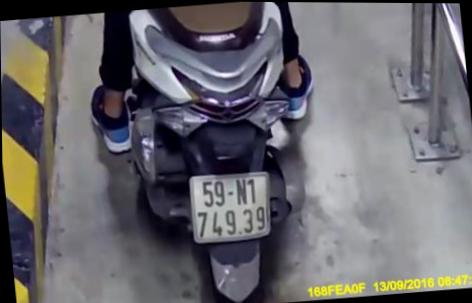LP: (183, 164, 276, 246)
